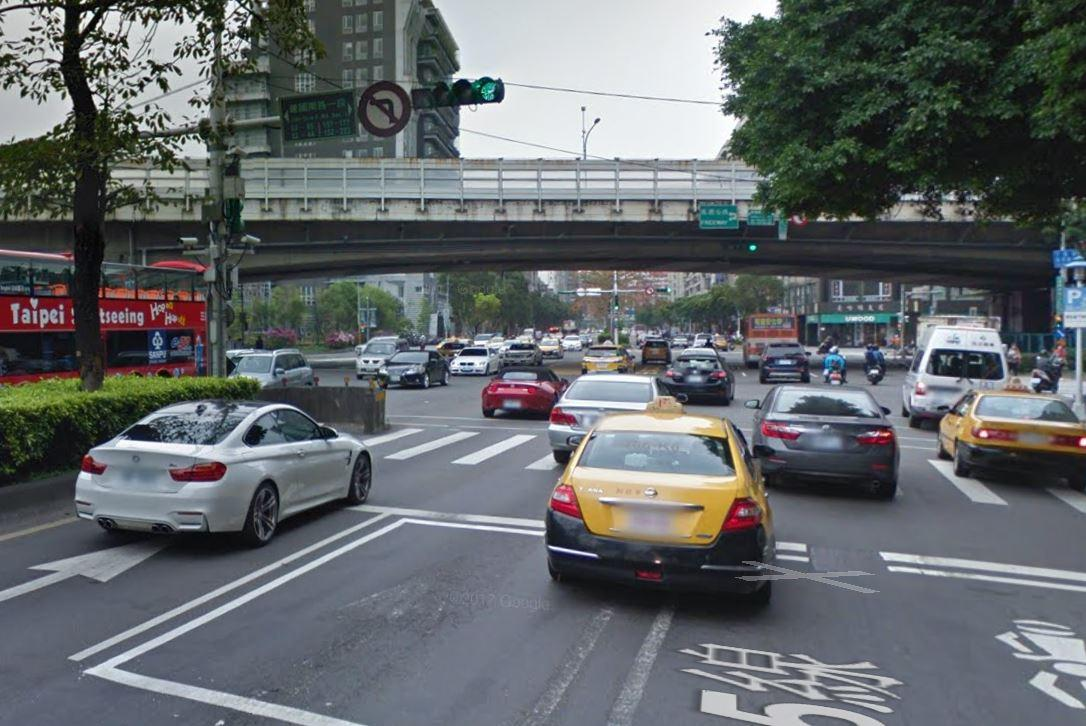green_traffic_light: (431, 76, 501, 105)
no_left_turn: (358, 80, 411, 135)
